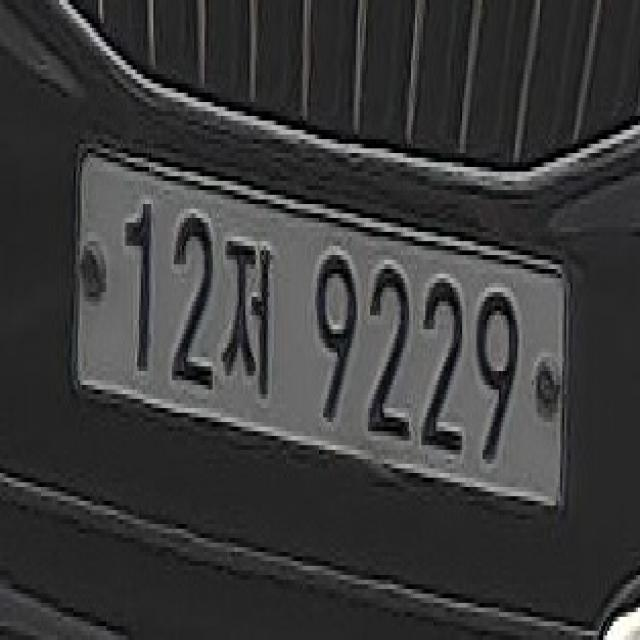1: (119, 186, 160, 390)
2: (168, 199, 218, 399), (366, 250, 415, 454), (419, 260, 468, 463)
9: (307, 232, 358, 436), (474, 278, 520, 473)
jeo: (223, 218, 280, 422)
license_plate: (66, 130, 574, 547)
